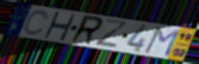4: (125, 23, 149, 54)
C: (22, 9, 50, 37)
H: (42, 11, 77, 42)
M: (142, 26, 182, 58)
R: (68, 14, 105, 47)
Z: (93, 17, 130, 49)
